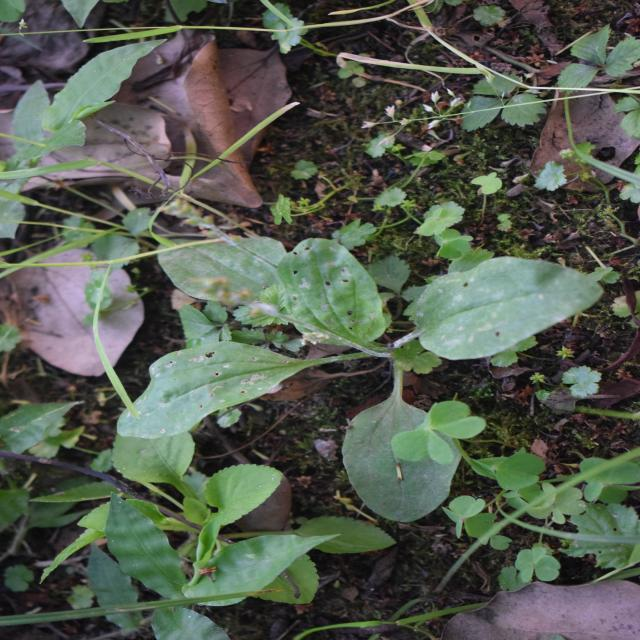plantain: (154, 121, 418, 583)
